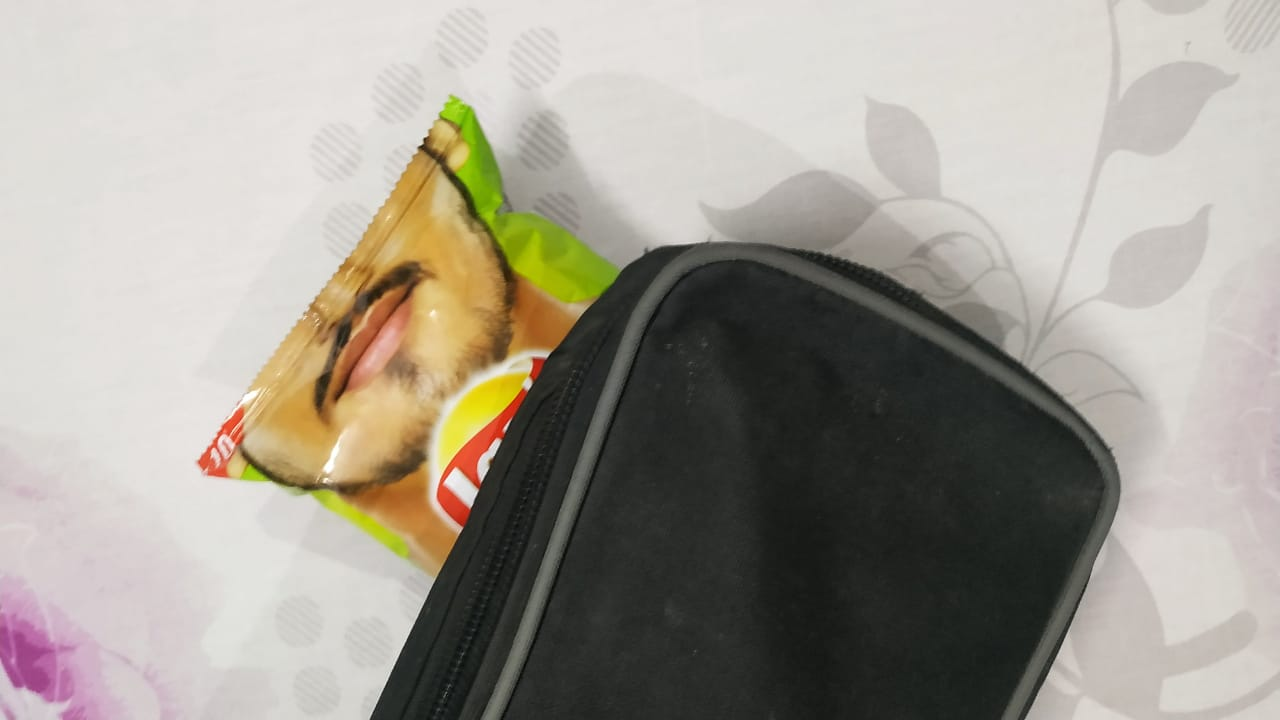lays chips: (156, 81, 647, 582)
